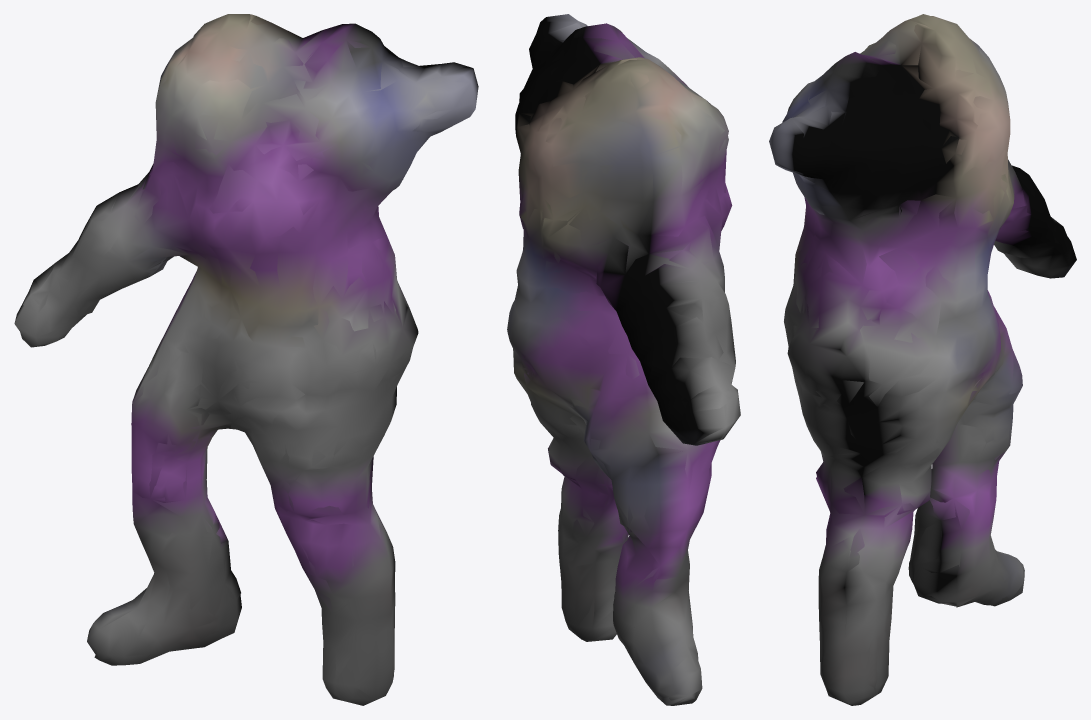
The model's file is initiate.glb.
The picture shows the model from 3 angles, left to right: view 1: azimuth 30°, elevation 25°; view 2: azimuth 150°, elevation 25°; view 3: azimuth 270°, elevation 25°; orthographic projection. The views are drawn at different scales.
Parts seen in each view (by area): view 1: yuri_initiate; view 2: yuri_initiate; view 3: yuri_initiate.
Part boxes in pixels (left/top/right/bottom): yuri_initiate: left=14, top=14, right=478, bottom=705; yuri_initiate: left=507, top=14, right=740, bottom=705; yuri_initiate: left=769, top=14, right=1076, bottom=705.
Size of the model in its own units: 1.16 by 2.22 by 0.9662.
